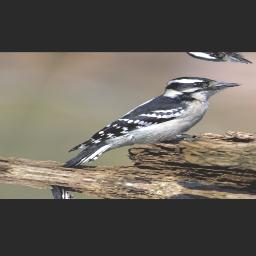Woodpecker: (58, 65, 245, 183)
